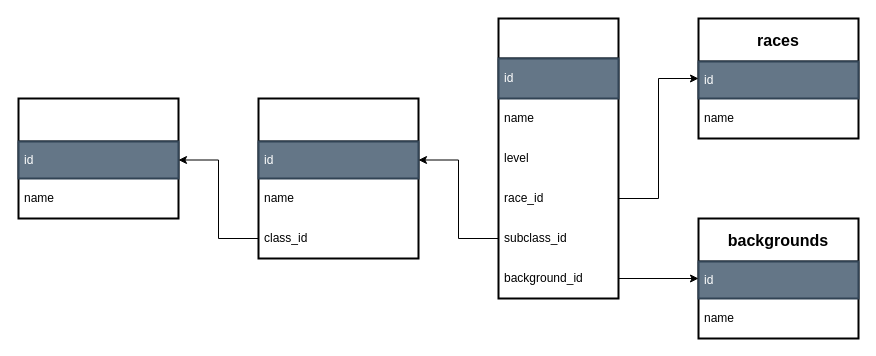
The diagram is 876 pixels wide and 356 high, and some of its shapes have lost their labels. Here are the shapes that lost their labels. From the top down, the box of each, then its label:
(17, 97, 179, 219): classes
(257, 97, 419, 259): subclasses
(497, 17, 619, 299): characters
